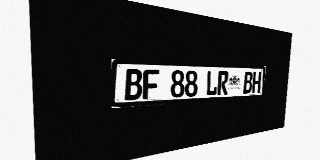8: (170, 70, 185, 98), (184, 70, 198, 97)
B: (125, 69, 142, 100), (243, 71, 253, 94)
F: (143, 69, 159, 99)
H: (252, 72, 261, 93)
L: (206, 71, 218, 96)
R: (217, 71, 229, 95)
